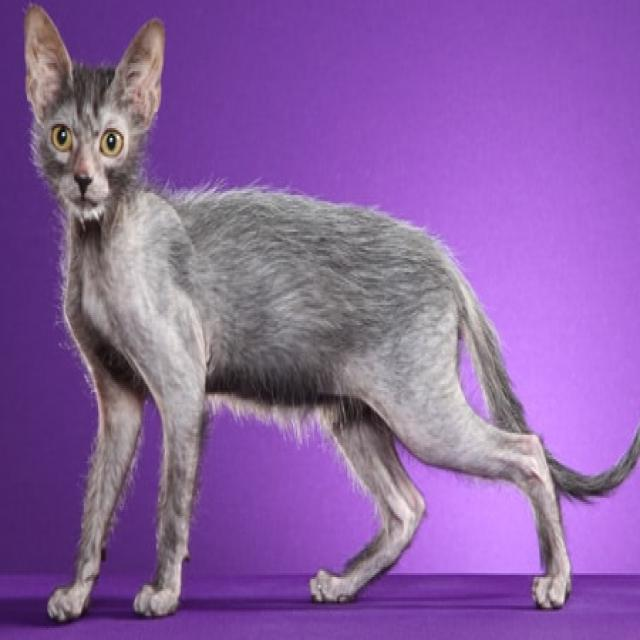Lykoi: (17, 0, 640, 630)
